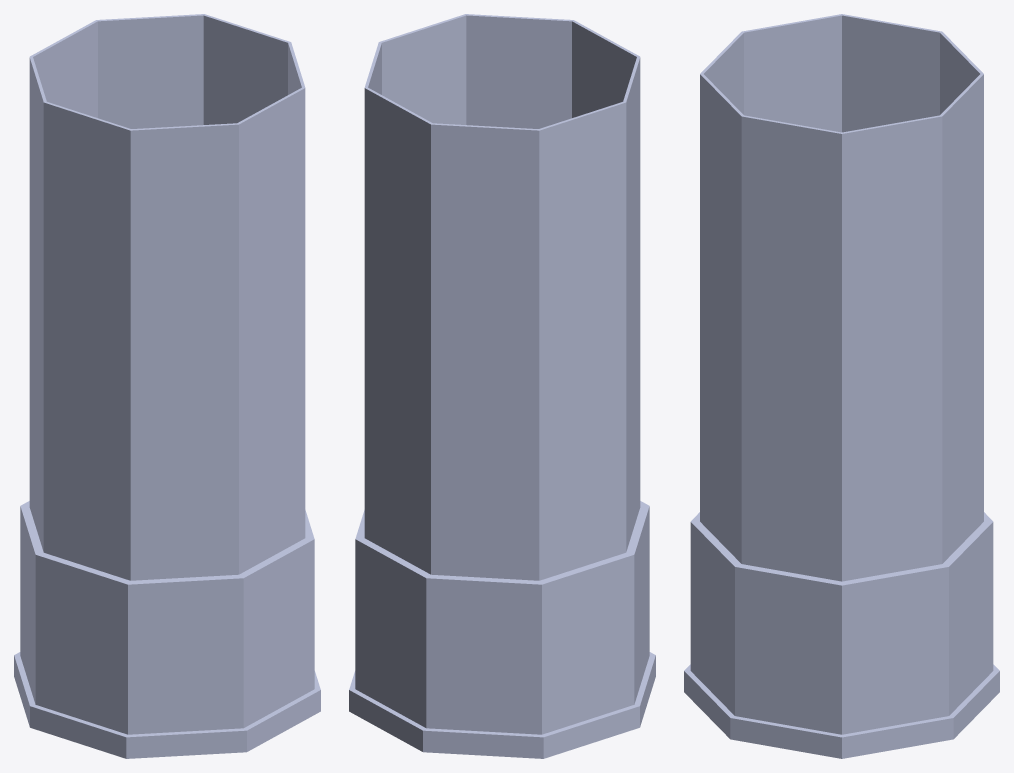
Rendered from 12G_Shell.FBX.
3 renders of one model, left to right at view 1: azimuth 30°, elevation 25°; view 2: azimuth 150°, elevation 25°; view 3: azimuth 270°, elevation 25°, orthographic.
Bounding box in the file's own units: 0.959 × 2.07 × 0.959.
